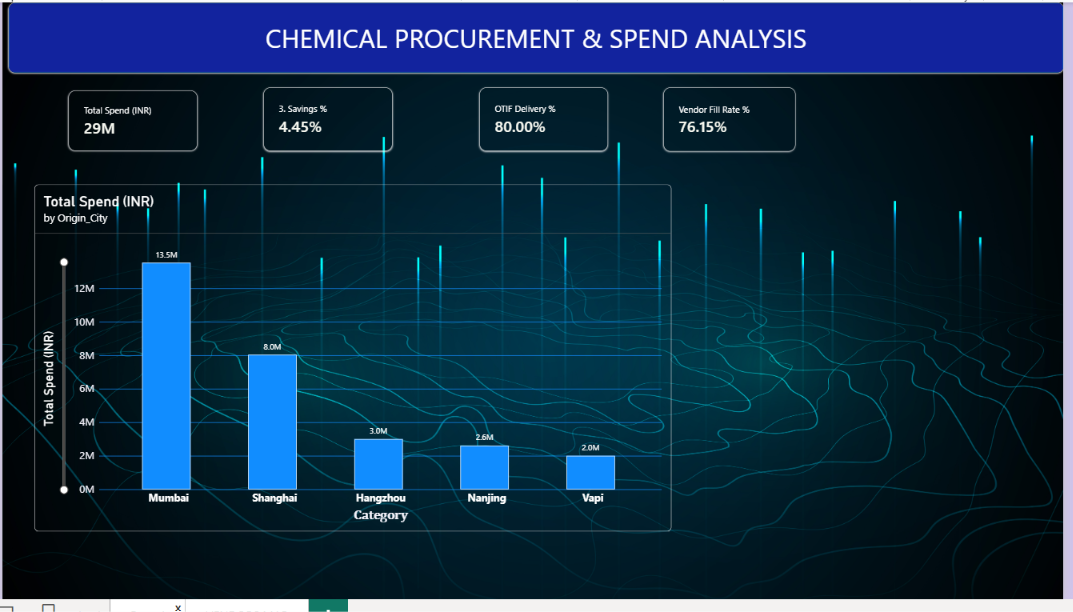

The dashboard page shown, as its layout file describes it:
{"tool":"powerbi","page":{"name":"SPEND ","canvas":[1920,1080],"ordinal":0},"visuals":[{"type":"shape","box":[10.3,0,1910.1,128],"z":0},{"type":"clusteredColumnChart","fields":{"Category":["powerbi_spend_data.Origin_City"],"Y":["powerbi_spend_data.Total Spend (INR)"]},"box":[57.9,329.4,1152.8,628],"z":1000},{"type":"cardVisual","fields":{"Data":["powerbi_spend_data.Total Spend (INR)"]},"box":[119.4,159.3,233.2,109.5],"z":2000},{"type":"cardVisual","fields":{"Data":["powerbi_spend_data.3. Savings %"]},"box":[472.3,153.8,233.2,115.6],"z":3000},{"type":"cardVisual","fields":{"Data":["powerbi_spend_data.OTIF Delivery %"]},"box":[863.2,153.8,232.5,115.2],"z":4000},{"type":"cardVisual","fields":{"Data":["powerbi_spend_data.Vendor Fill Rate %"]},"box":[1196.2,153.8,239,116],"z":5000}]}

Visuals, with their boxes on the page's 1920x1080 design canvas (x1, y1, x2, y2). These are canvas units, not pixel positions in the 1073x612 screenshot, which may show the page scaled, cropped or inside an application window:
shape: left=10, top=0, right=1920, bottom=128
clusteredColumnChart - powerbi_spend_data.Origin_City x powerbi_spend_data.Total Spend (INR): left=58, top=329, right=1211, bottom=957
cardVisual - powerbi_spend_data.Total Spend (INR): left=119, top=159, right=353, bottom=269
cardVisual - powerbi_spend_data.3. Savings %: left=472, top=154, right=706, bottom=269
cardVisual - powerbi_spend_data.OTIF Delivery %: left=863, top=154, right=1096, bottom=269
cardVisual - powerbi_spend_data.Vendor Fill Rate %: left=1196, top=154, right=1435, bottom=270
